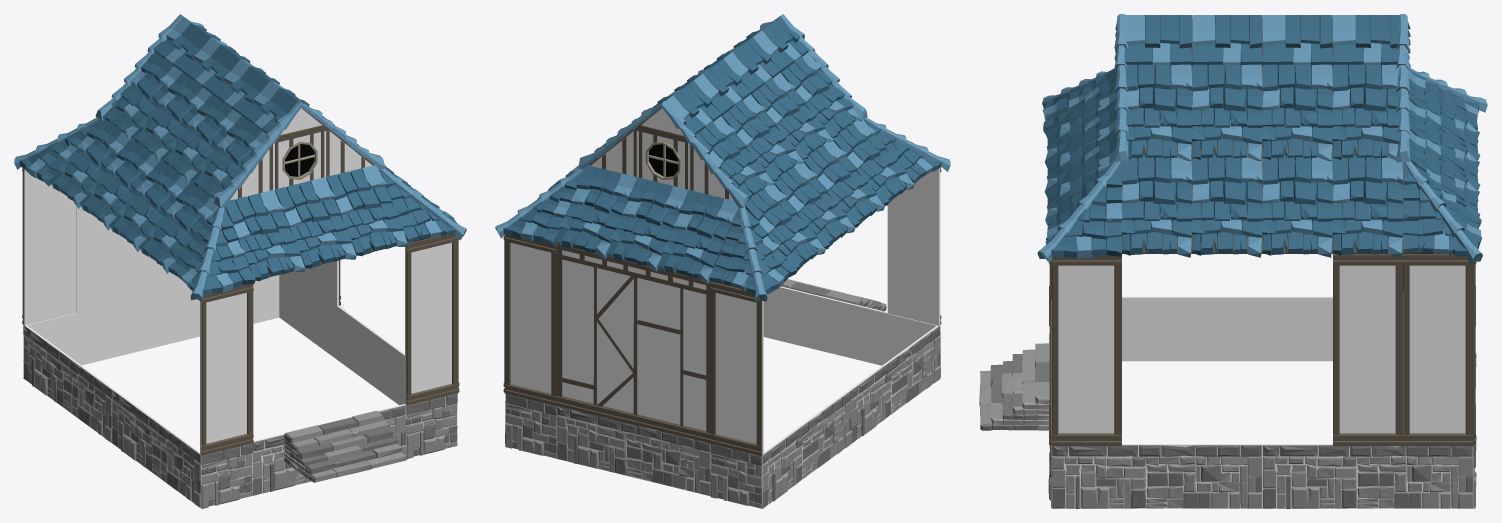
The model's file is house_07_parts.glb.
The picture shows the model from 3 angles, left to right: view 1: azimuth 30°, elevation 25°; view 2: azimuth 150°, elevation 25°; view 3: azimuth 270°, elevation 25°; orthographic projection. The views are drawn at different scales.
Visible parts, largest first — view 1: WALL_03_3, WALL_03_4, WALL_03_9, FOUNDATION_02_23, WALL_05_2, STAIRS_04_3, FOUNDATION_02_22, FOUNDATION_02_21, FOUNDATION_02_24, ROOF_base_24, ROOF_base_12, ROOF_base_21 (+29 smaller); view 2: WALL_05_2, WALL_03_9, WALL_03_8, FOUNDATION_02_23, WALL_03_4, FOUNDATION_02_20, FOUNDATION_02_22, FOUNDATION_02_21, ROOF_base_22, ROOF_base_11, ROOF_base_23, ROOF_corner_out_4 (+25 smaller); view 3: WALL_03_7, FOUNDATION_02_25, WALL_03_5, WALL_03_6, FOUNDATION_02_24, FOUNDATION_02_21, ROOF_base_8, ROOF_base_6, ROOF_base_10, ROOF_base_3, ROOF_base_7, ROOF_base_5 (+20 smaller).
Boxes of the visible parts, x1,y1,x2,y2 form: WALL_03_3: (405,234,458,405); WALL_03_4: (200,283,253,455); WALL_03_9: (22,168,75,325); FOUNDATION_02_23: (76,286,199,365); WALL_05_2: (76,206,187,313); STAIRS_04_3: (283,410,407,482); FOUNDATION_02_22: (23,325,113,442); FOUNDATION_02_21: (112,389,201,507); FOUNDATION_02_24: (279,272,367,380); ROOF_base_24: (275,177,356,268); ROOF_base_12: (326,165,407,256); ROOF_base_21: (225,189,305,281); WALL_05_2: (556,244,710,443); WALL_03_9: (710,281,763,455); WALL_03_8: (504,234,556,405); FOUNDATION_02_23: (557,406,710,496); WALL_03_4: (887,168,941,325); FOUNDATION_02_20: (763,286,887,365); FOUNDATION_02_22: (762,390,852,508); FOUNDATION_02_21: (849,325,940,442); ROOF_base_22: (658,190,738,283); ROOF_base_11: (555,165,636,259); ROOF_base_23: (606,177,687,271); ROOF_corner_out_4: (709,206,797,302); WALL_03_7: (1403,254,1473,446); FOUNDATION_02_25: (1051,444,1262,508); WALL_03_5: (1051,254,1121,446); WALL_03_6: (1333,254,1402,446); FOUNDATION_02_24: (1262,444,1473,508); FOUNDATION_02_21: (1122,296,1262,361); ROOF_base_8: (1191,155,1262,257); ROOF_base_6: (1262,155,1332,257); ROOF_base_10: (1121,155,1192,257); ROOF_base_3: (1332,155,1403,257); ROOF_base_7: (1191,64,1262,161); ROOF_base_5: (1262,64,1332,161).
Size of the model in its own units: 5.41 by 6.6 by 7.24.
1 material, 1 textured.
